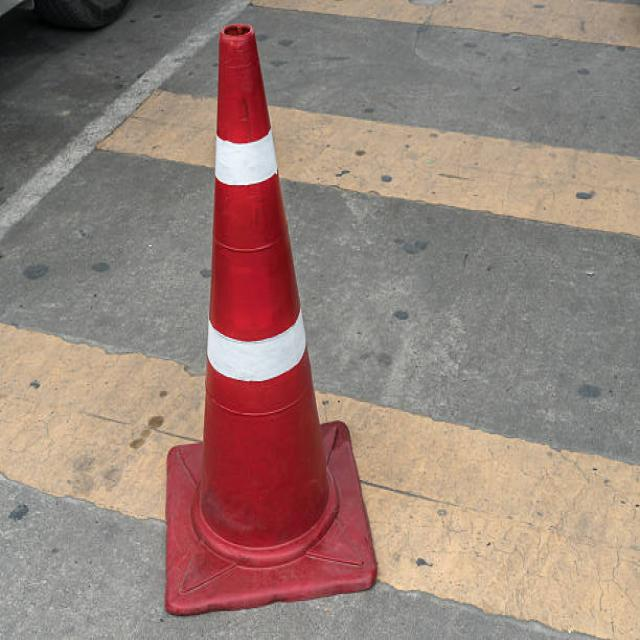Traffic Cone: (140, 0, 393, 640)
